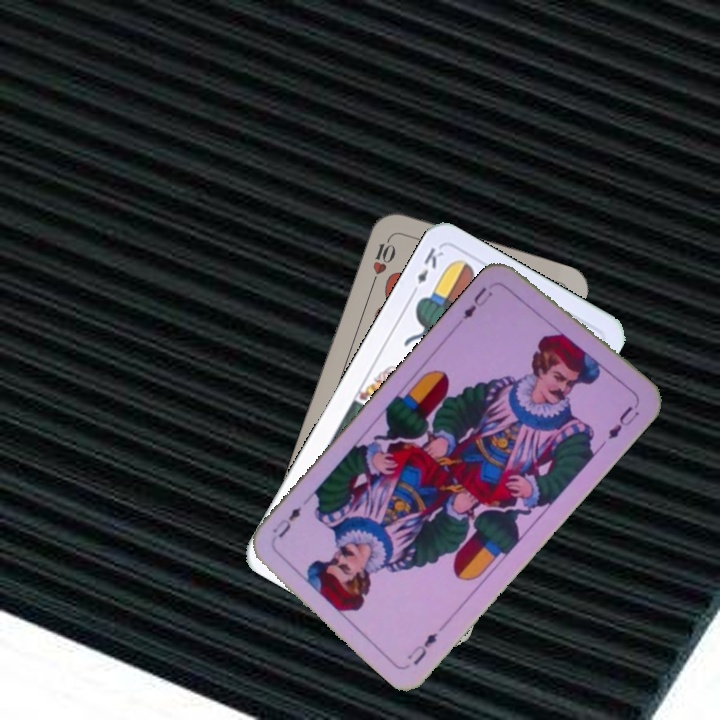EK: (407, 243, 447, 299)
EU: (402, 628, 441, 668), (459, 282, 495, 322)
H10: (367, 230, 398, 287)
